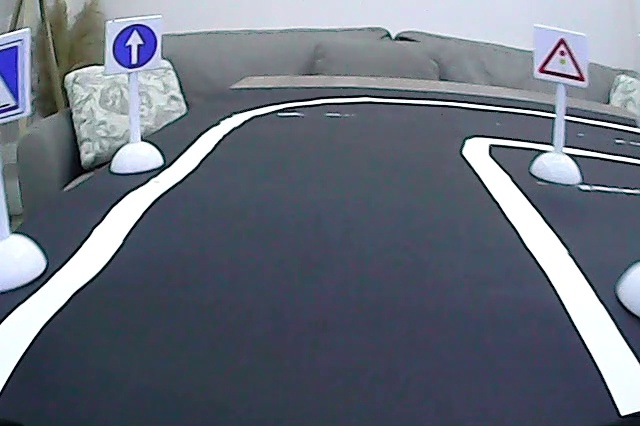red light: (533, 31, 589, 86)
